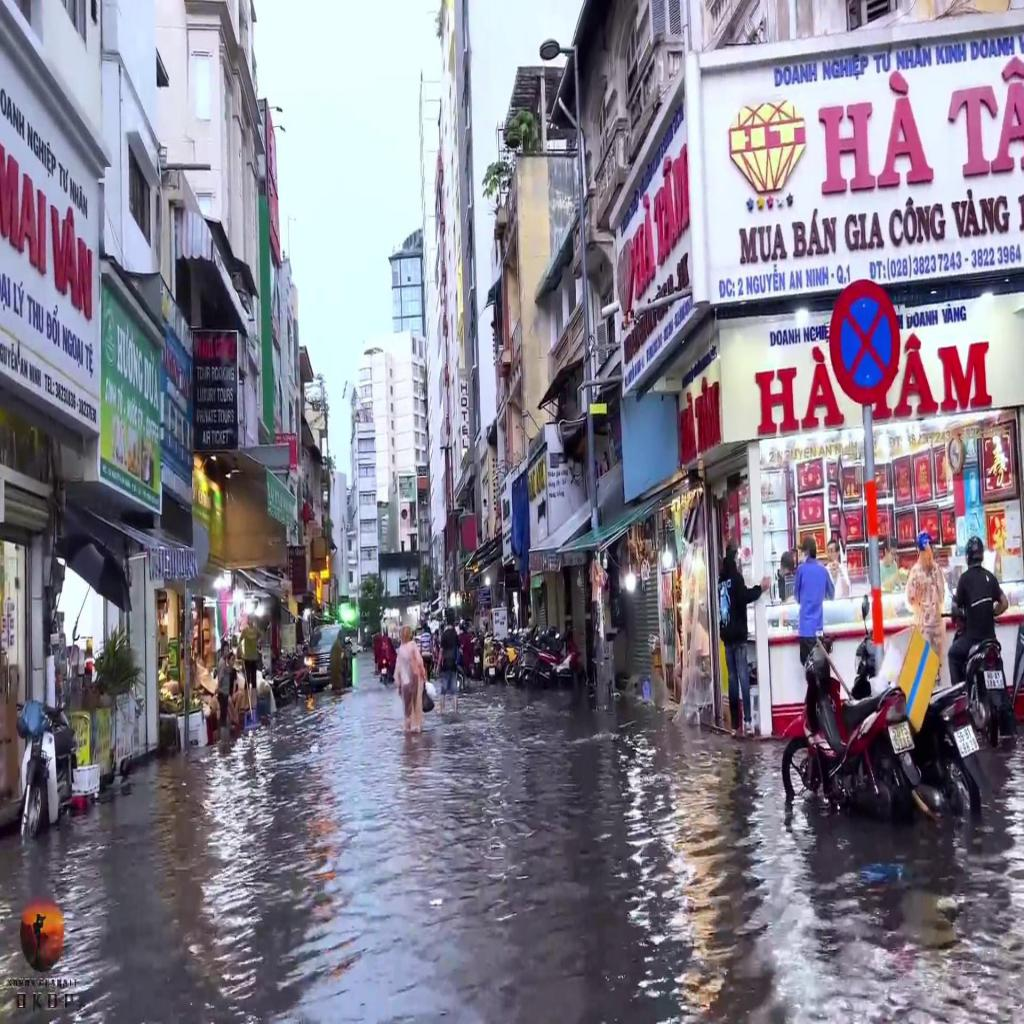cam_dung_xe_va_do_xe: (829, 276, 900, 407)
